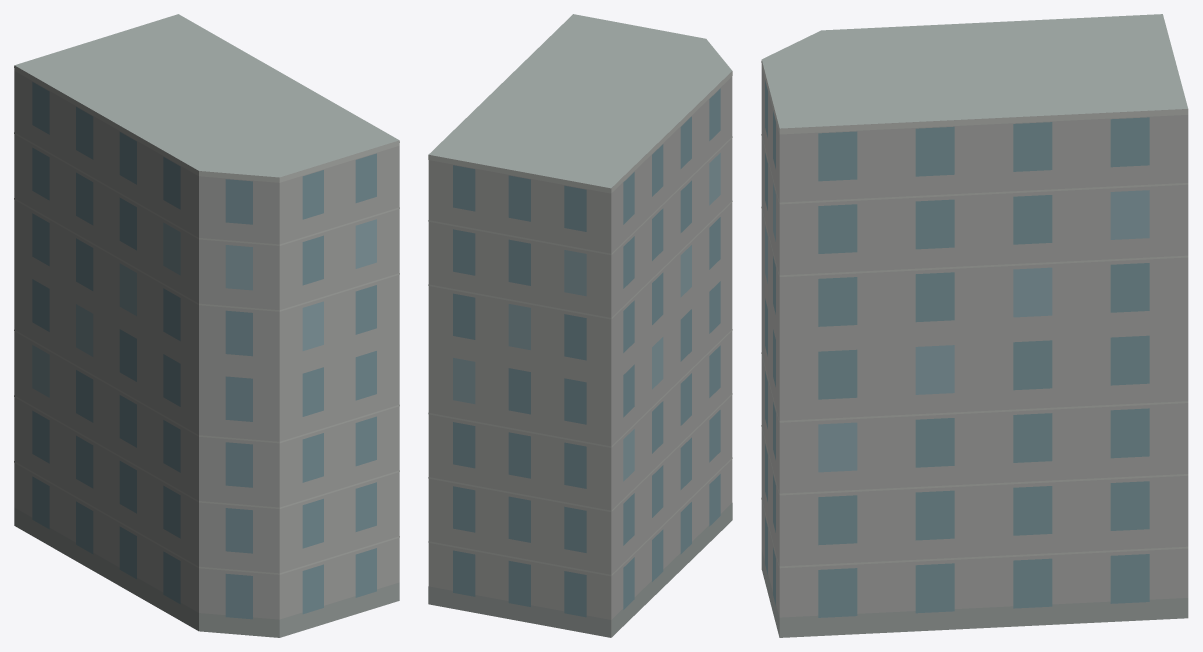
File: survey-upis-32943660.glb
3 views of the same model, side by side, from view 1: azimuth 30°, elevation 25°; view 2: azimuth 150°, elevation 25°; view 3: azimuth 270°, elevation 25° (orthographic). The views are drawn at different scales.
Parts seen in each view (by area): view 1: survey-upis-32943660.tmp; view 2: survey-upis-32943660.tmp; view 3: survey-upis-32943660.tmp.
Boxes of the visible parts, x1,y1,x2,y2 form: survey-upis-32943660.tmp: (14,14,399,637); survey-upis-32943660.tmp: (428,14,732,637); survey-upis-32943660.tmp: (761,14,1188,637).
Size of the model in its own units: 10.06 by 20.8 by 15.81.
